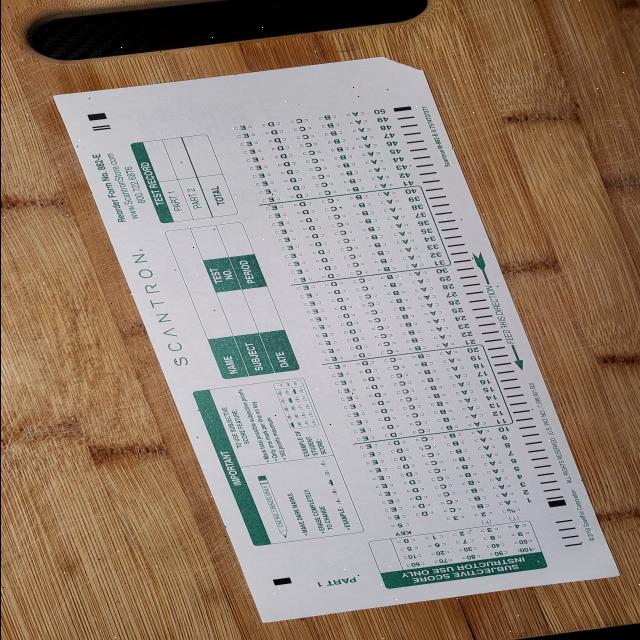scantron: (52, 57, 621, 624)
